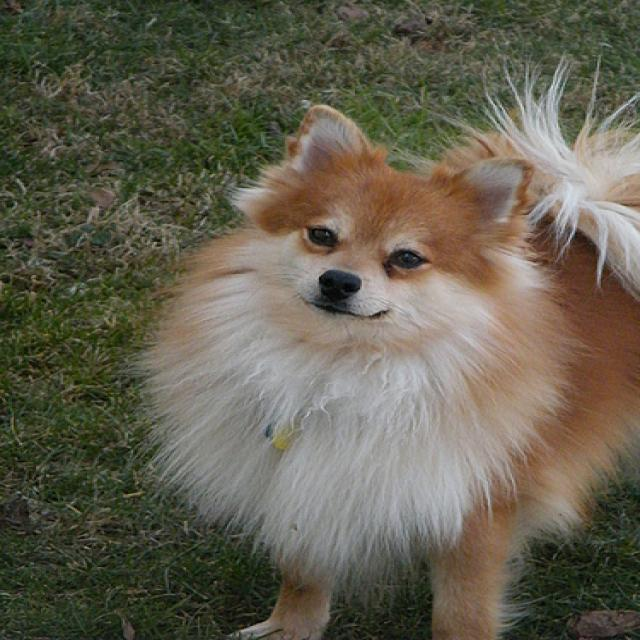dog-pomeranian: (121, 51, 637, 637)
